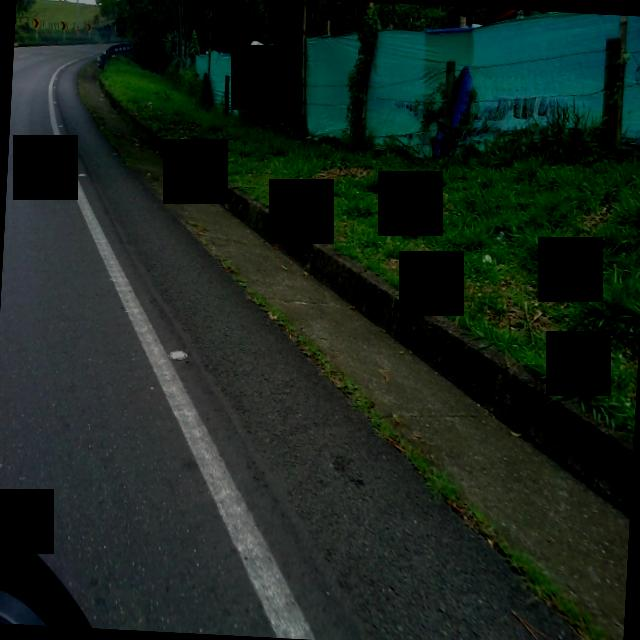DITCH: (0, 47, 640, 640), (24, 41, 640, 640)
